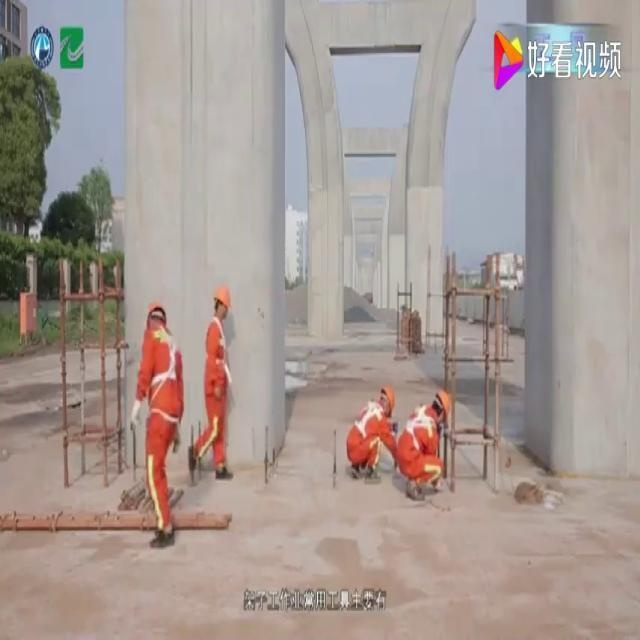Arnes_seguridad: (146, 323, 181, 392), (402, 397, 439, 454), (203, 311, 230, 378), (351, 393, 387, 441)
